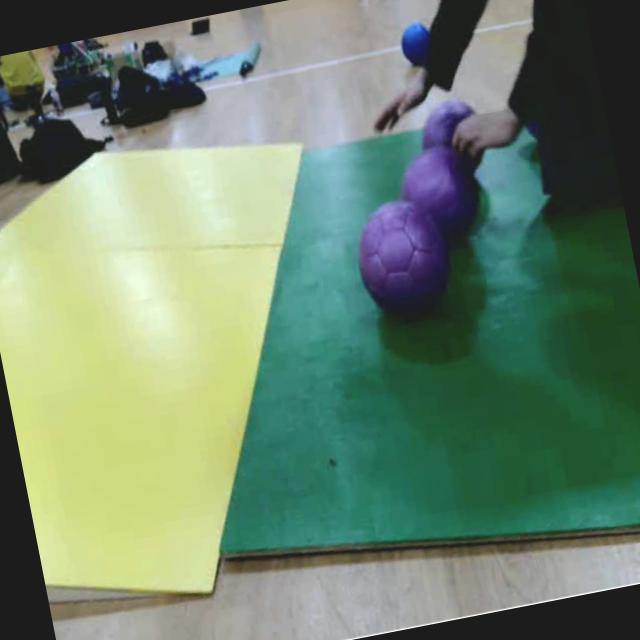blue_ball: (397, 19, 436, 70)
purple_ball: (352, 190, 463, 326), (397, 144, 484, 254), (412, 95, 490, 191)
